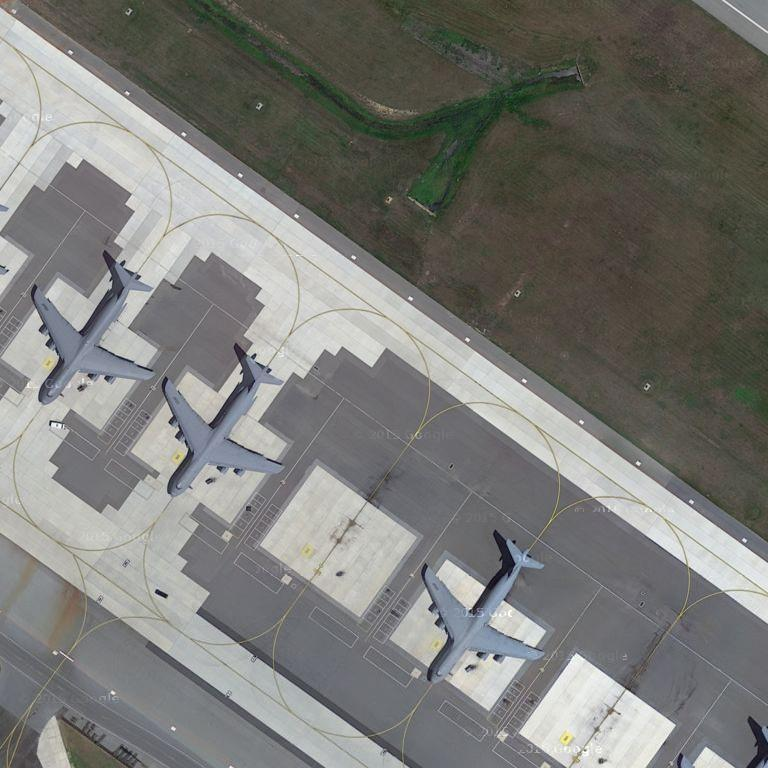KC-135: (416, 533, 550, 690), (23, 255, 162, 406), (155, 349, 292, 496)
